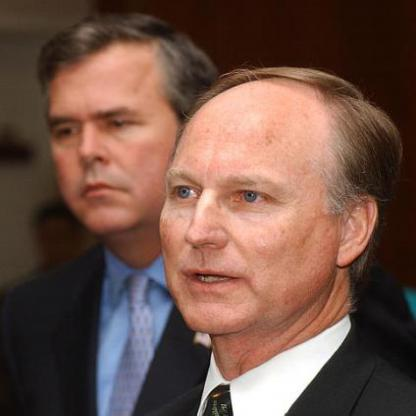face: (149, 82, 348, 348), (38, 21, 199, 240)
